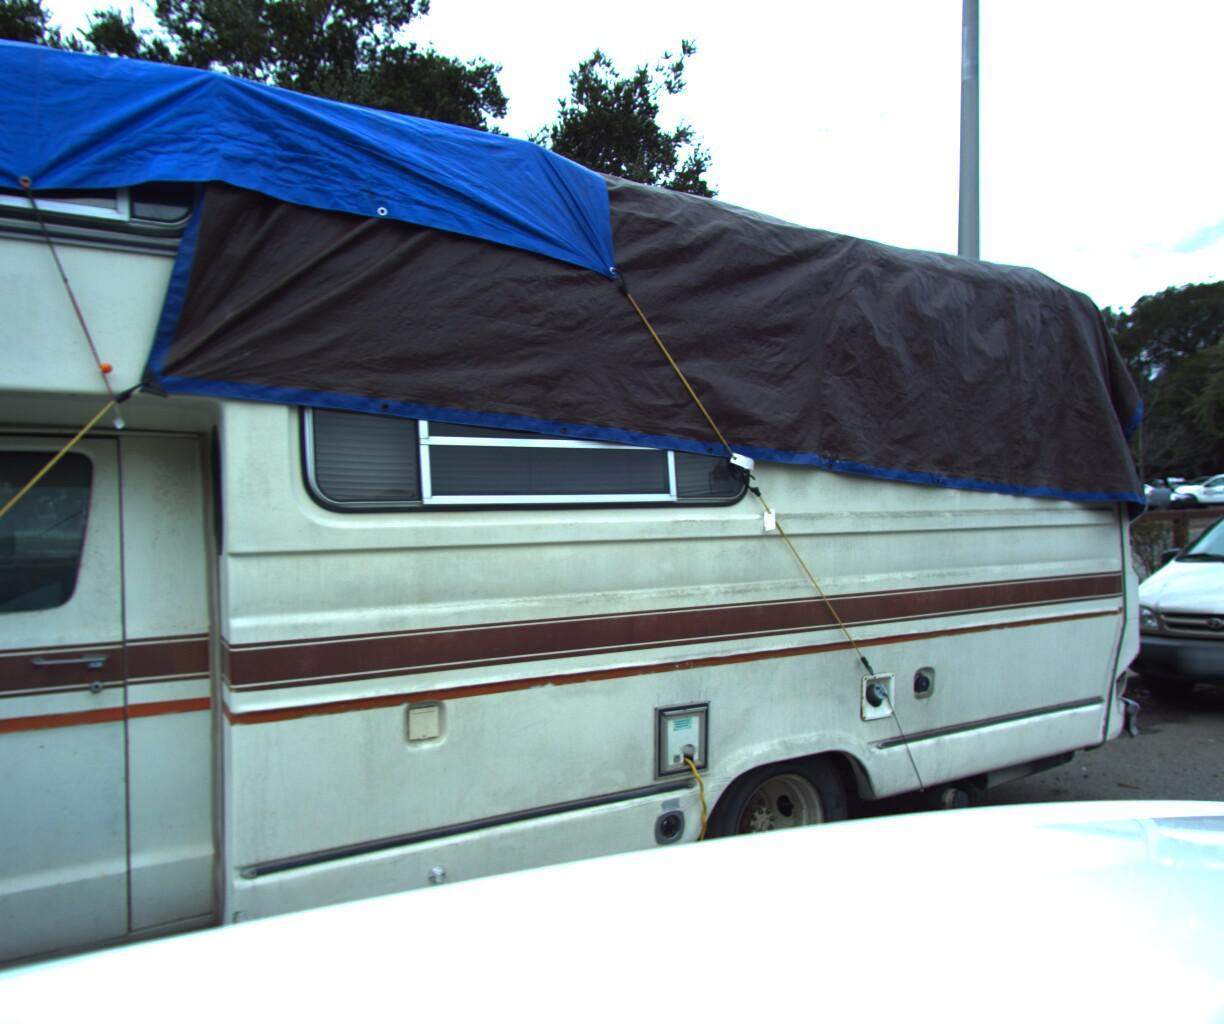car: (1076, 448, 1224, 748)
other_vehicle: (0, 0, 1176, 1024)
